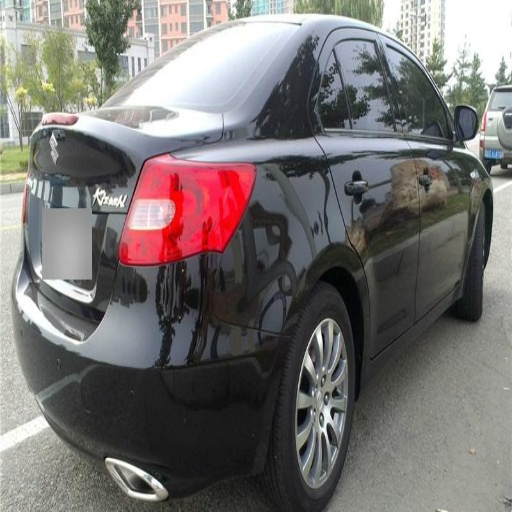back_bumper: (20, 254, 282, 504)
back_right_door: (312, 29, 419, 341)
back_right_light: (120, 157, 253, 262)
tailgate: (28, 106, 214, 288)
trunk: (233, 142, 289, 173)
